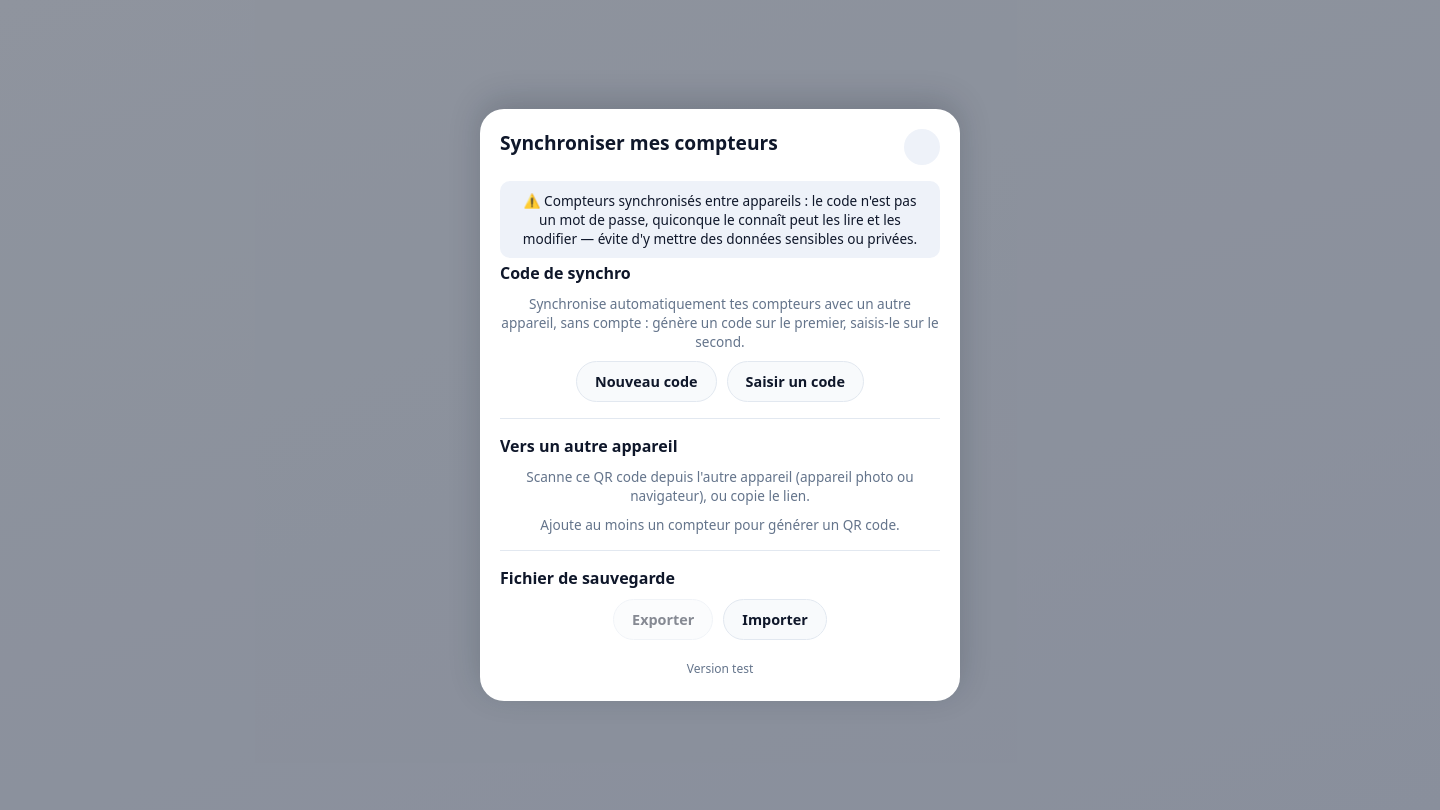
Test: SyncPanel › code de synchro › avec un worker configuré (VITE_SYNC_WORKER_URL) › affiche une erreur adaptée pour l'issue "not-found"
Click the button "Saisir un code": (795, 382) [727,361,864,402]
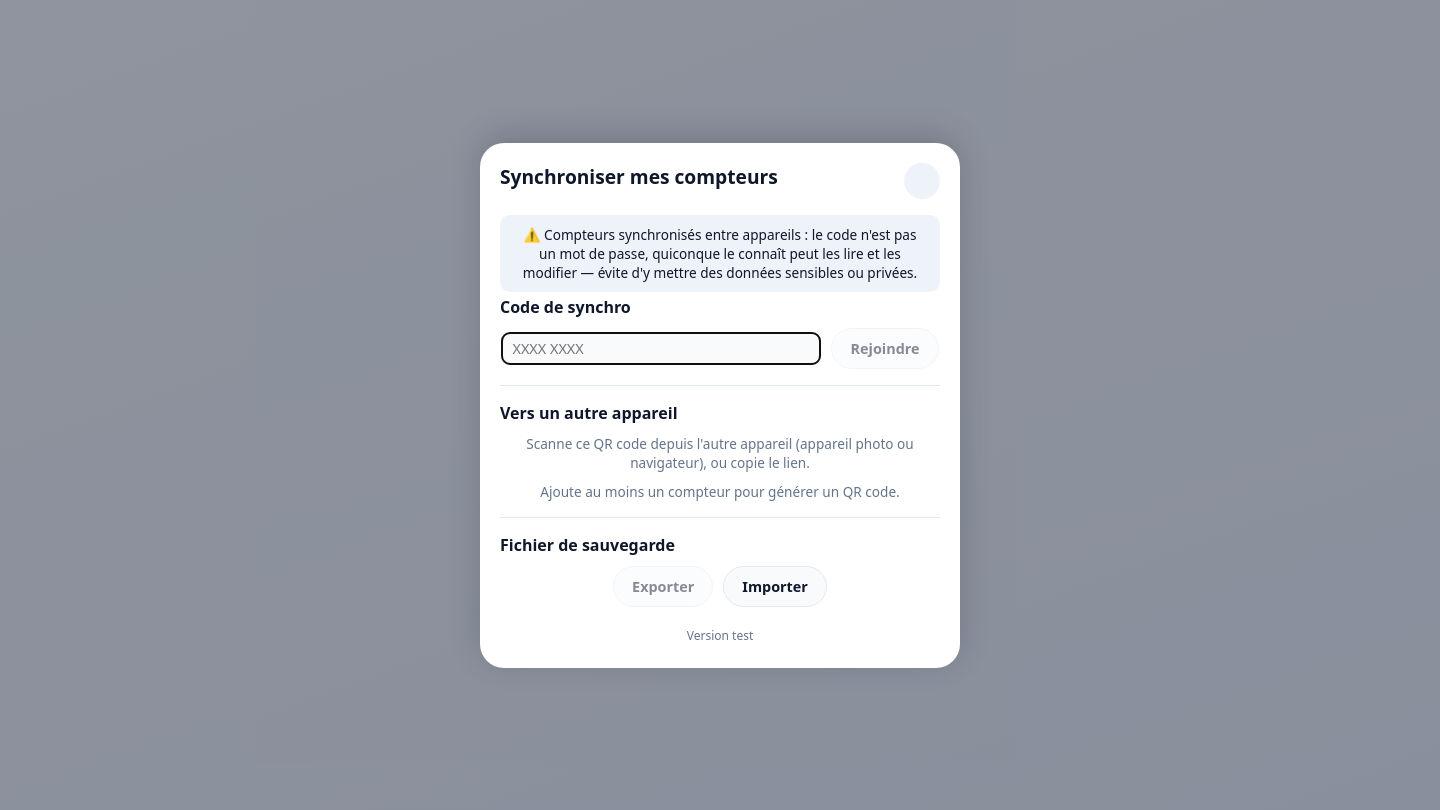
In the field with placeholder "XXXX XXXX": (662, 348) [502,332,822,364], type "ABCDEFGH"
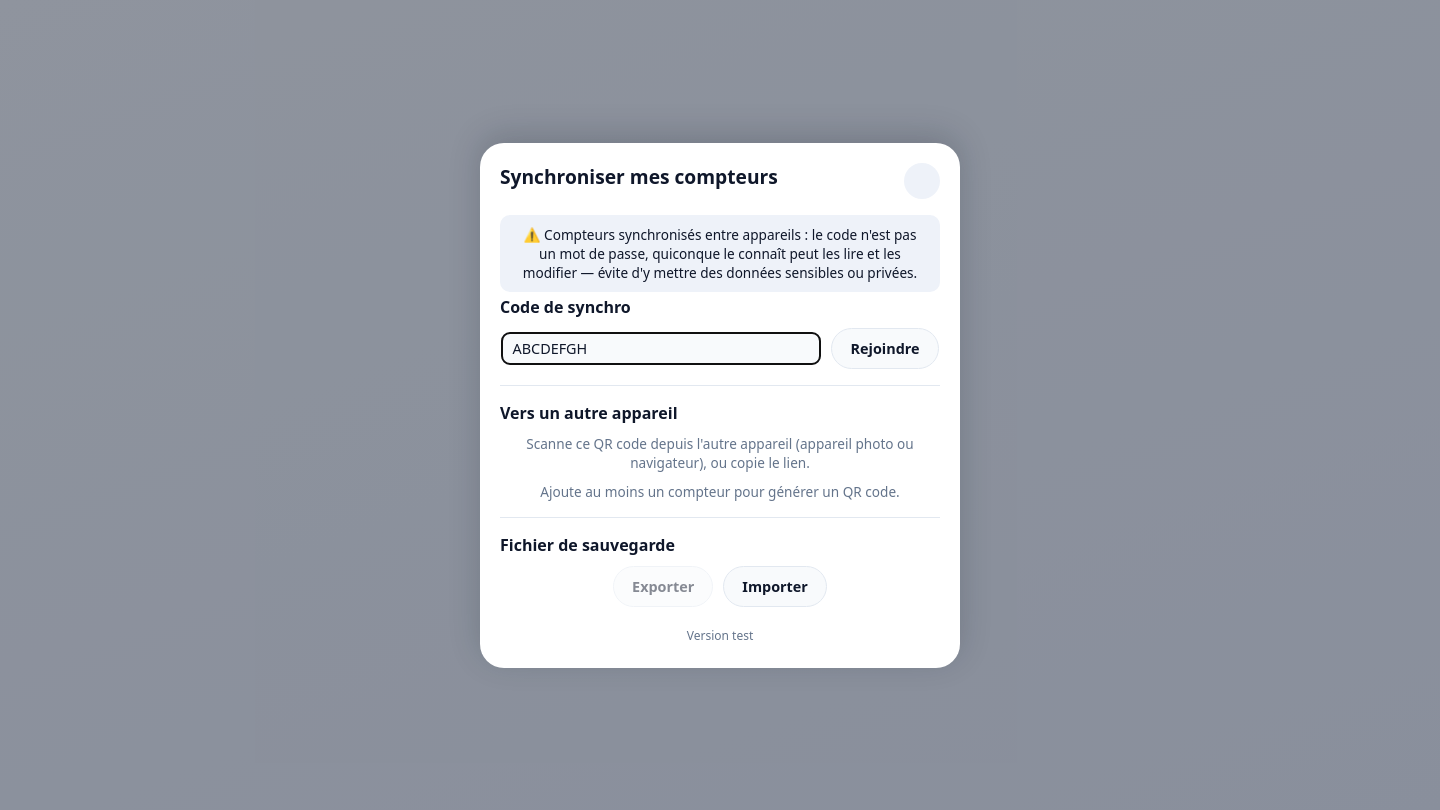
Click the button "Rejoindre": (885, 348) [832,328,938,368]
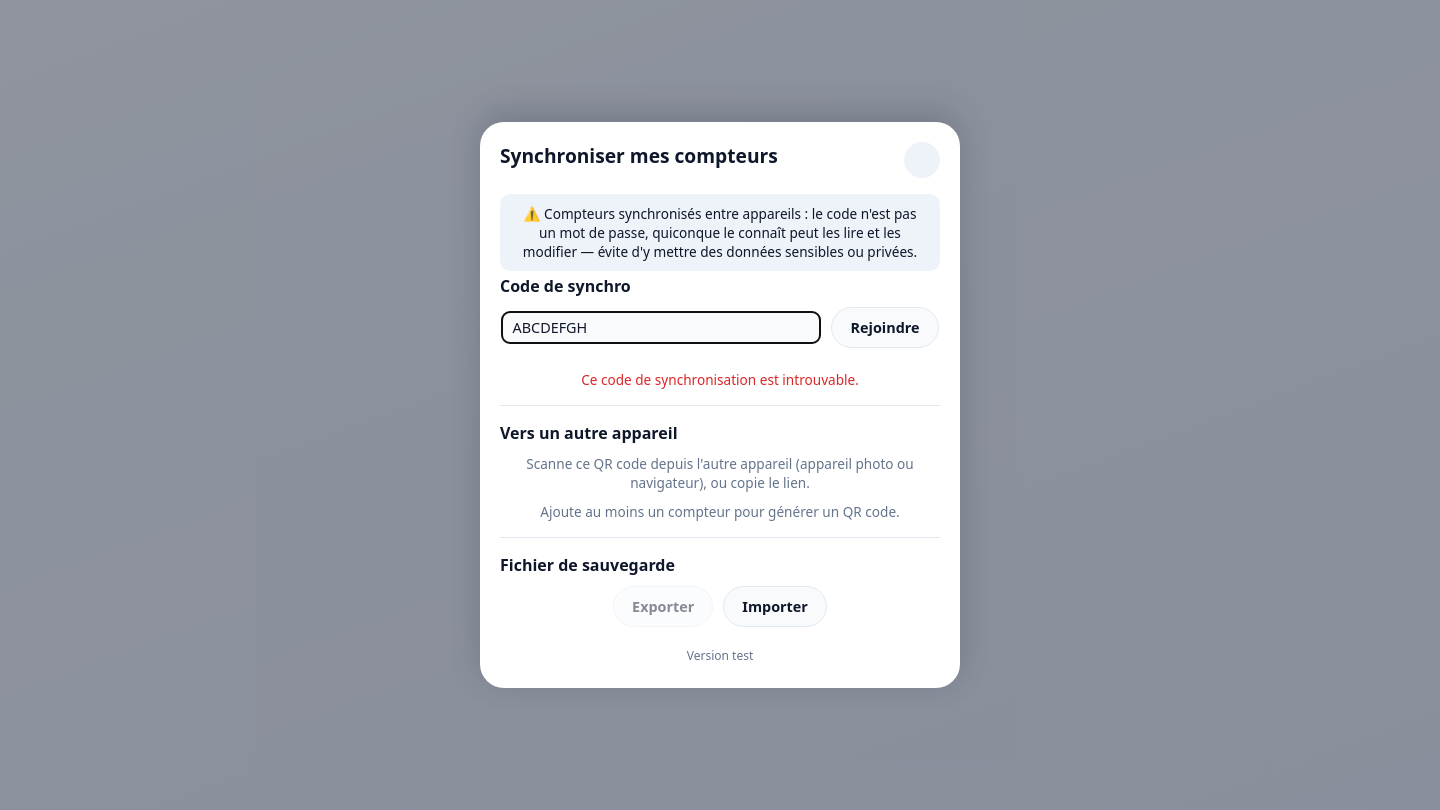
Check: the text "Ce code de synchronisation est introuvable." is shown, box [581,370,859,389]
